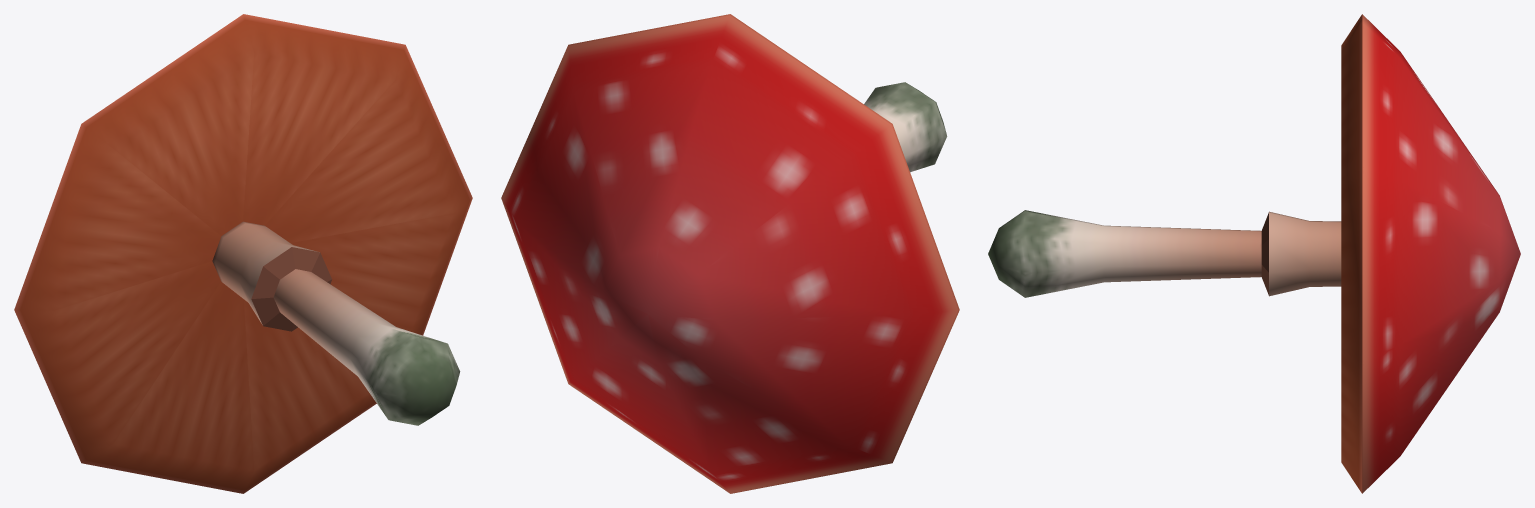
File: Mushroom_B.fbx
3 renders of one model, left to right at view 1: azimuth 30°, elevation 25°; view 2: azimuth 150°, elevation 25°; view 3: azimuth 270°, elevation 25°, orthographic. The views are drawn at different scales.
Visible parts, largest first — view 1: Mushroom_B; view 2: Mushroom_B; view 3: Mushroom_B.
Part boxes in pixels (left/top/right/bottom): Mushroom_B: left=14, top=14, right=472, bottom=493; Mushroom_B: left=501, top=14, right=959, bottom=493; Mushroom_B: left=988, top=14, right=1520, bottom=493.
Bounding box in the file's own units: 35.01 × 35.01 × 36.53.
